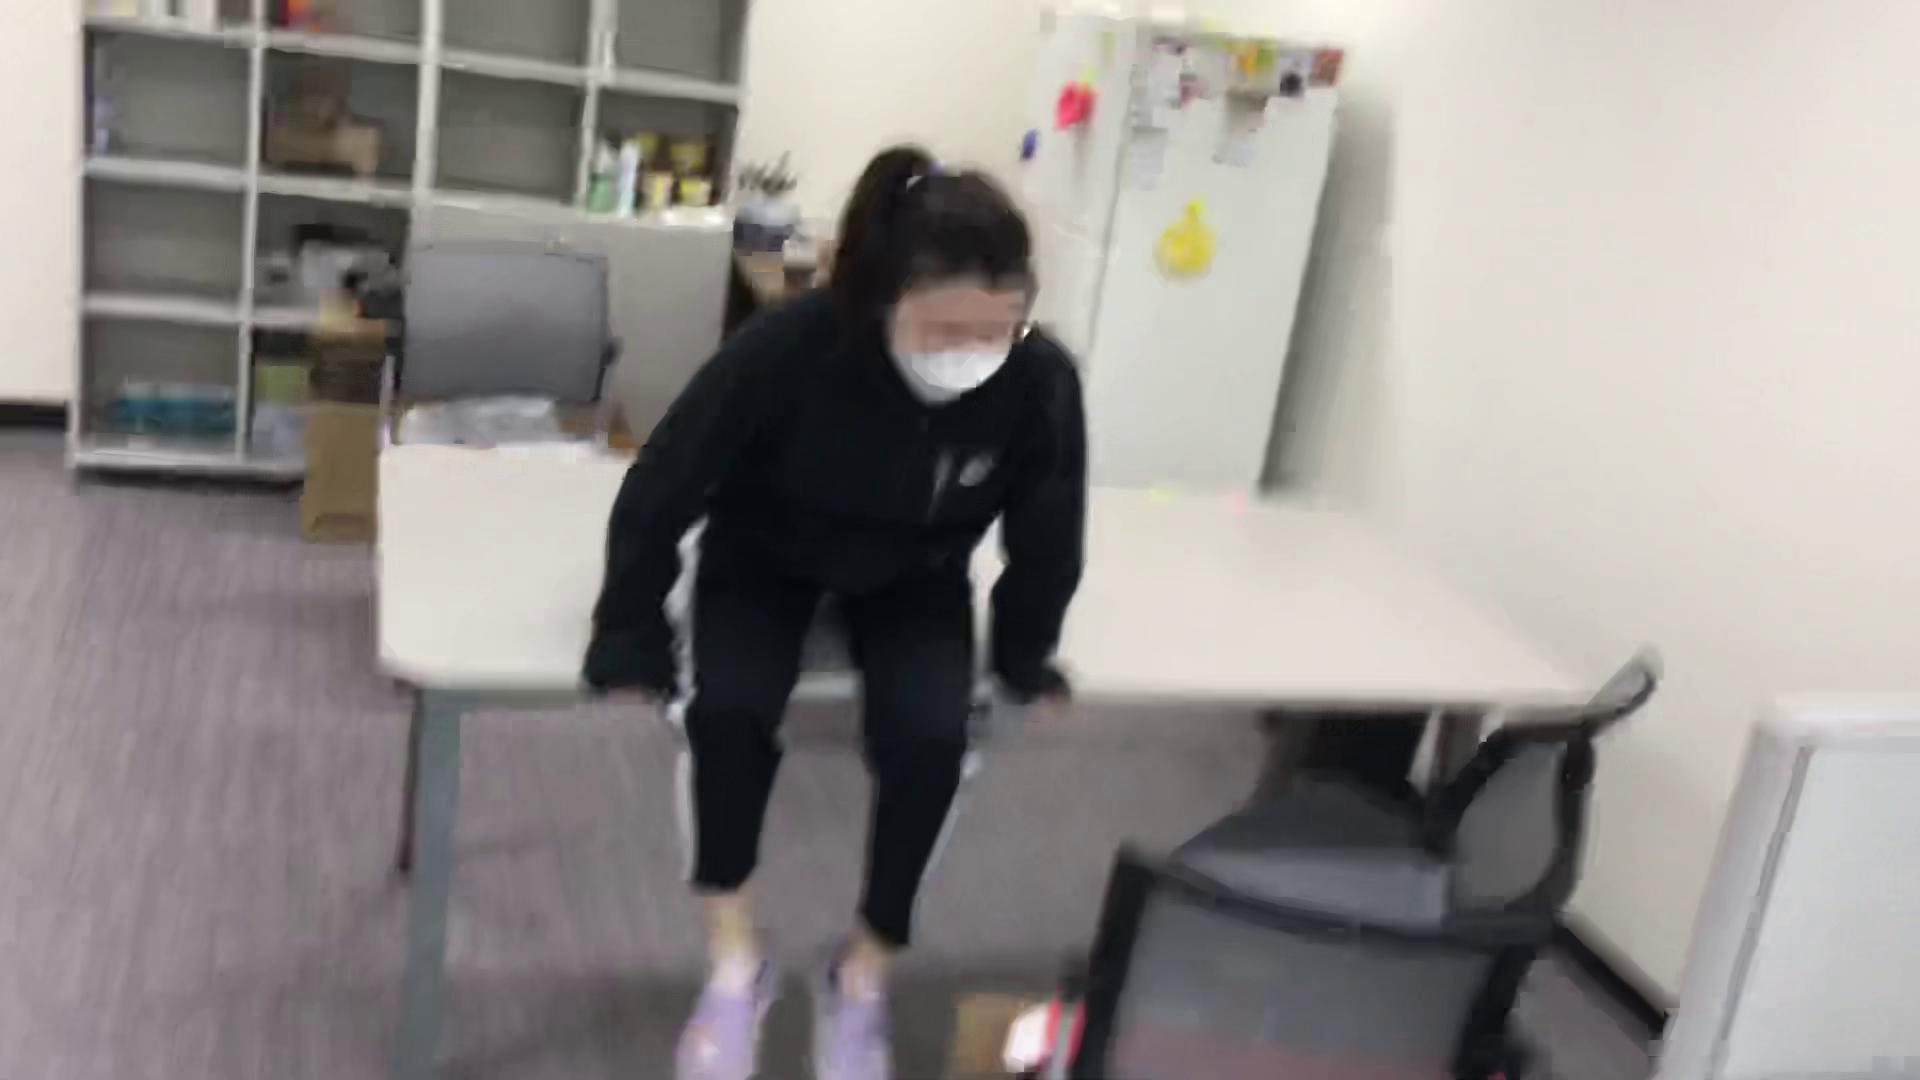sleep: (582, 135, 1091, 1080)
